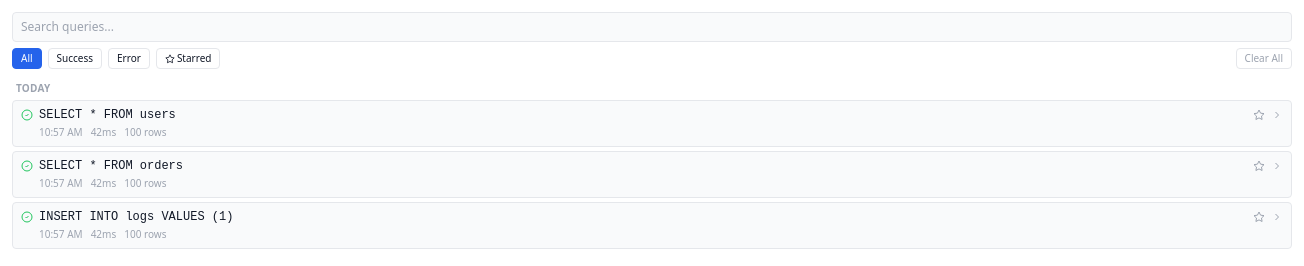
Test: QH-4: Search filters queries › filters queries by SQL content when typing in search
Expected: the number of elements with test id "query-history-entry" is 3, [12,100,1292,147]; [12,151,1292,198]; [12,202,1292,249]
Note: Type in search
Type "users" into the field with test id "query-history-search" at (652, 27), box [12,12,1292,42]
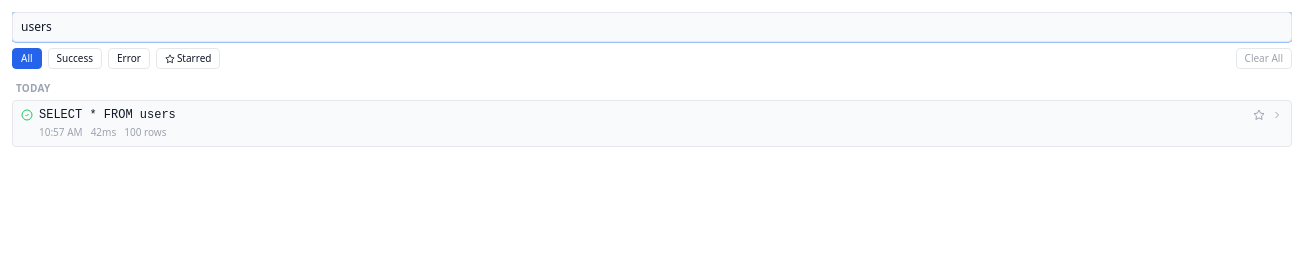
Expected: the text with test id "query-history-entry-sql" reads "SELECT * FROM users", [39,108,176,122]
Now the number of elements with test id "query-history-entry" is 1, box [12,100,1292,147]
